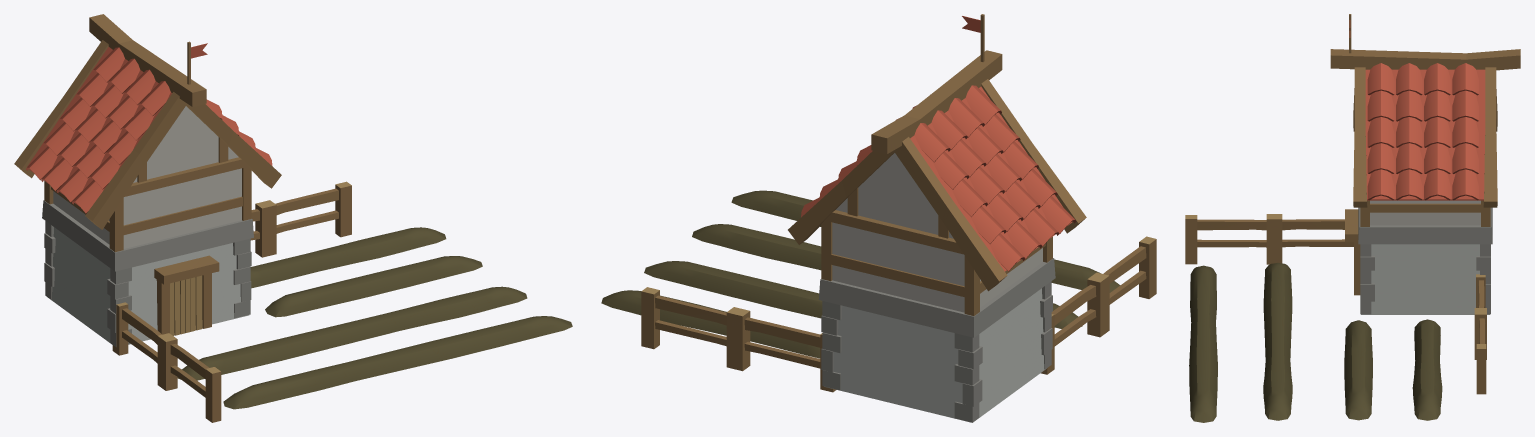
Rendered from farm.glb.
3 renders of one model, left to right at view 1: azimuth 30°, elevation 25°; view 2: azimuth 150°, elevation 25°; view 3: azimuth 270°, elevation 25°, orthographic. The views are drawn at different scales.
Parts seen in each view (by area): view 1: Farm_SecondAge_Level2; view 2: Farm_SecondAge_Level2; view 3: Farm_SecondAge_Level2.
Boxes of the visible parts, left/top/right/bottom form: Farm_SecondAge_Level2: left=14, top=14, right=572, bottom=422; Farm_SecondAge_Level2: left=601, top=14, right=1156, bottom=422; Farm_SecondAge_Level2: left=1185, top=14, right=1520, bottom=422.
Bounding box in the file's own units: 1.83 × 1.31 × 1.45.
Materials: 1 (1 with a texture image).
